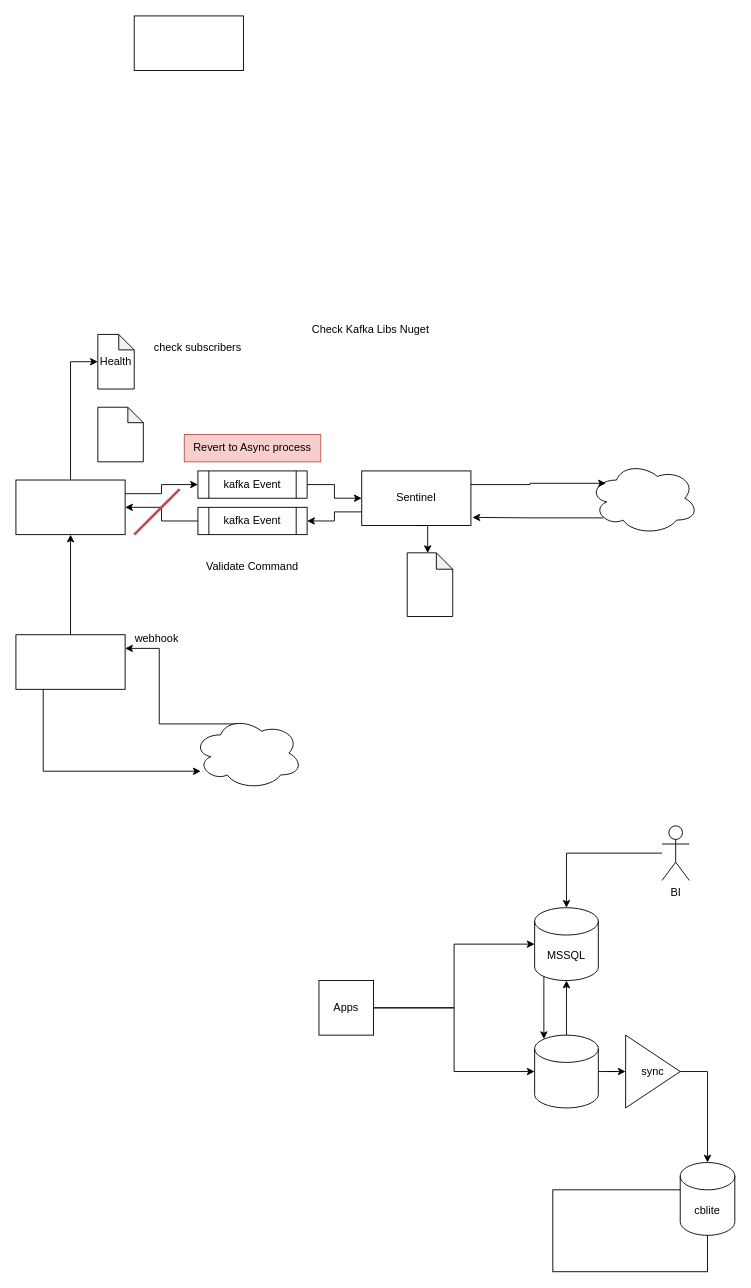
The diagram is 751 pixels wide and 1288 high, and some of its shapes have lost their labels. Each missing label, with the box of its shape:
Couchbase: (534, 1034, 598, 1108)
Device: (552, 1189, 708, 1272)
Onboarding Daemon: (15, 479, 125, 535)
rediness: (97, 406, 143, 462)
WordCheck: (588, 461, 698, 535)
